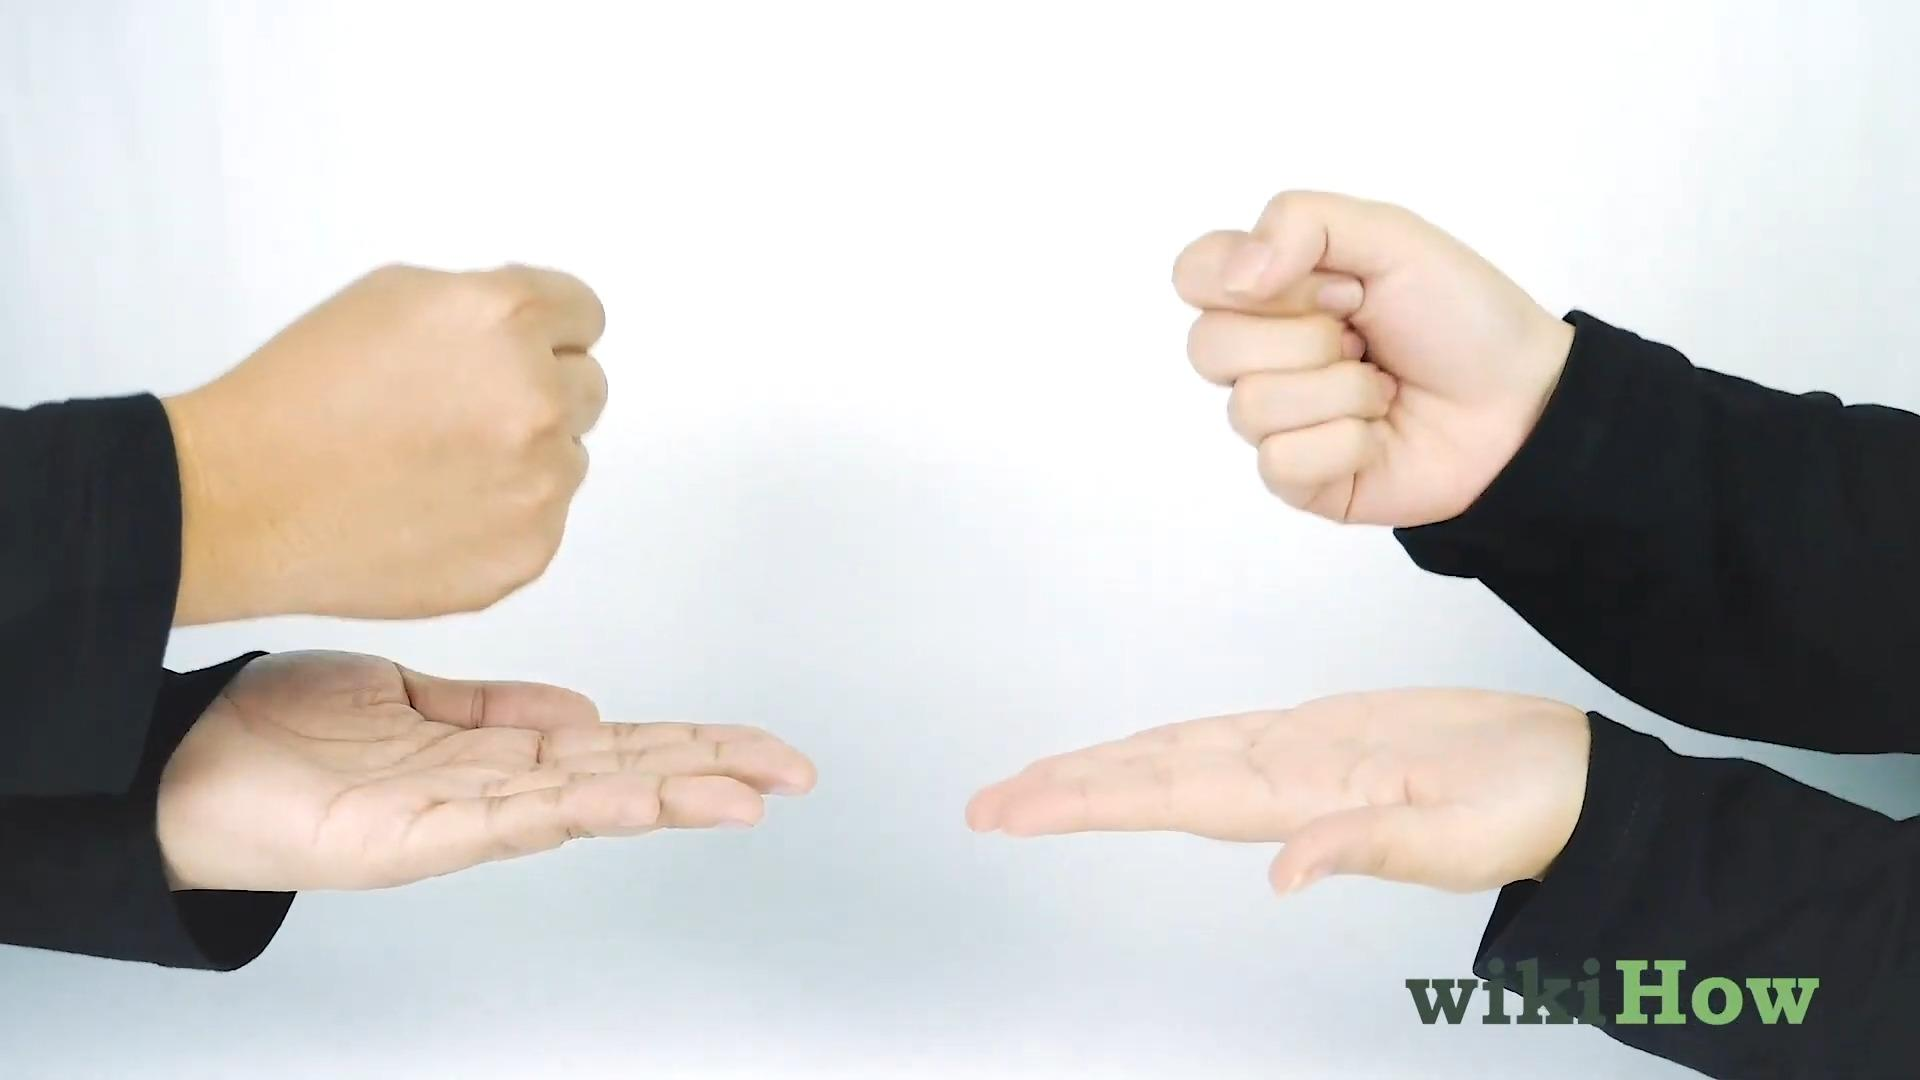Rock: (232, 255, 608, 618), (1167, 185, 1539, 531)
